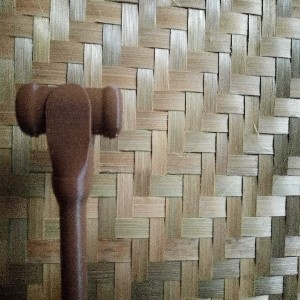palu: (14, 81, 124, 300)
